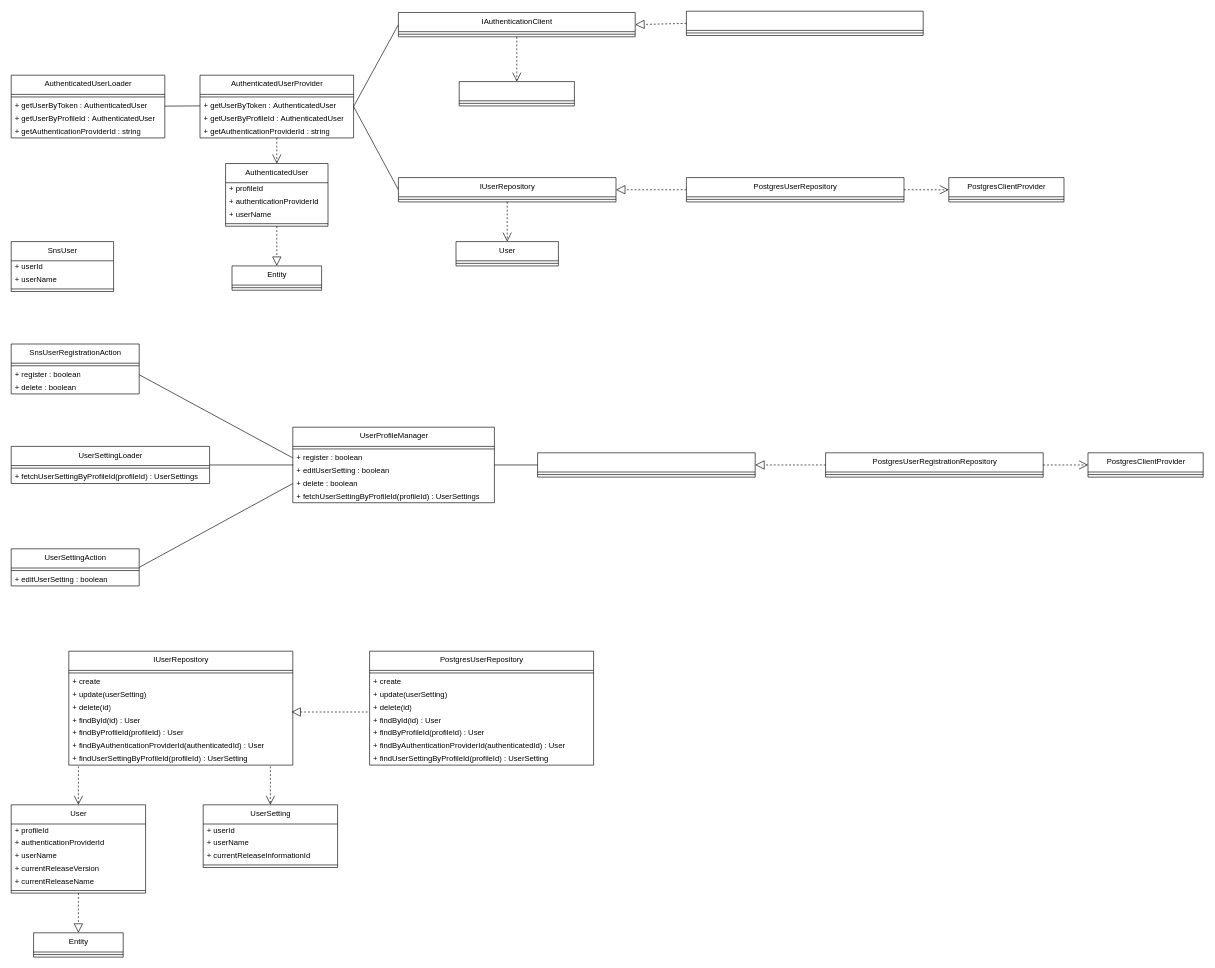
This 1215x968 diagram has some shape labels left out. Here are the shapes that lost their labels. From the top down, the centre of each, then its label:
At (x=804, y=23): "FirebaseClient".
At (x=516, y=93): "GetUserInformationResponse".
At (x=646, y=464): "IUserRegistrationRepository".
